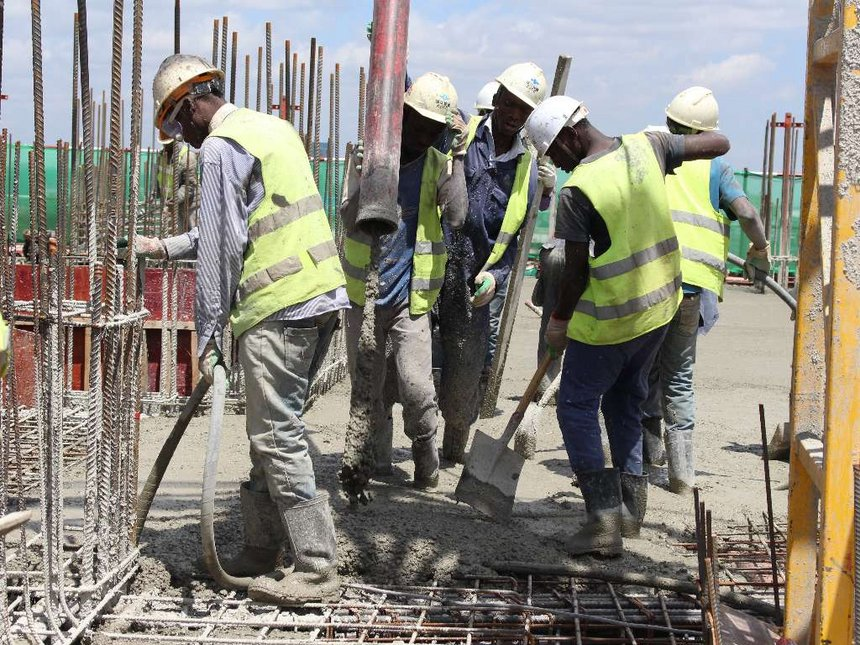epi: (146, 47, 343, 602), (520, 91, 672, 563), (349, 67, 465, 498), (655, 79, 774, 494), (458, 59, 548, 456)
